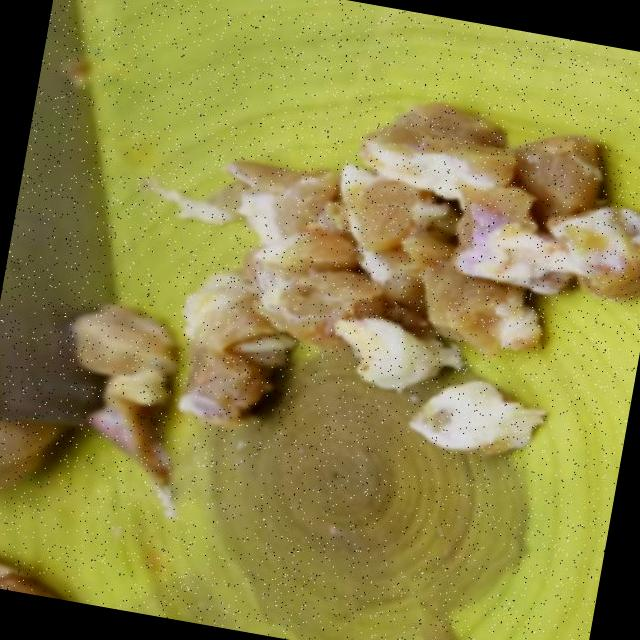potato: (32, 283, 190, 492), (162, 264, 302, 438), (352, 90, 508, 202), (395, 378, 548, 479), (405, 259, 544, 359), (531, 199, 640, 312), (446, 207, 576, 298), (212, 144, 326, 238), (498, 126, 602, 222), (262, 268, 374, 356), (326, 312, 439, 395), (347, 230, 444, 308), (249, 210, 345, 277), (334, 185, 416, 257)
